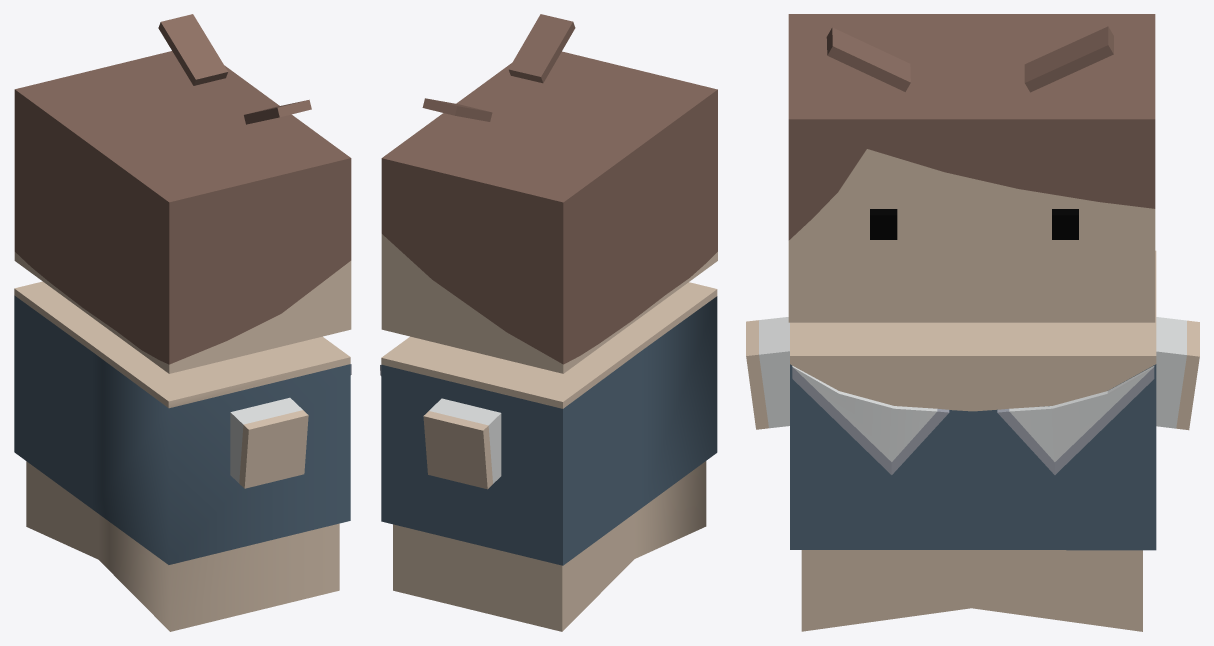
The model's file is RandomGuy.fbx.
3 renders of one model, left to right at view 1: azimuth 30°, elevation 25°; view 2: azimuth 150°, elevation 25°; view 3: azimuth 270°, elevation 25°, orthographic. The views are drawn at different scales.
Visible parts, largest first — view 1: Head, polySurface72, L_Leg1, L_Arm, R_leg1, R_Eyebrow, L_Eyebrow; view 2: Head, polySurface72, R_leg1, R_Arm, L_Leg1, L_Eyebrow, R_Eyebrow; view 3: Head, polySurface72, L_Leg1, R_leg1, polySurface64, polySurface63, L_Arm, R_Arm, R_Eyebrow, L_Eyebrow, polySurface65, polySurface66.
Part boxes in pixels (x1=…): Head: x1=14, y1=51, x2=351, y2=373; polySurface72: x1=14, y1=281, x2=350, y2=564; L_Leg1: x1=98, y1=514, x2=339, y2=631; L_Arm: x1=230, y1=397, x2=308, y2=488; R_leg1: x1=26, y1=461, x2=98, y2=559; R_Eyebrow: x1=158, y1=14, x2=227, y2=85; L_Eyebrow: x1=244, y1=99, x2=311, y2=124; Head: x1=381, y1=51, x2=717, y2=373; polySurface72: x1=381, y1=282, x2=717, y2=565; R_leg1: x1=393, y1=514, x2=634, y2=631; R_Arm: x1=423, y1=398, x2=501, y2=489; L_Leg1: x1=634, y1=461, x2=706, y2=558; L_Eyebrow: x1=508, y1=14, x2=575, y2=83; R_Eyebrow: x1=422, y1=98, x2=492, y2=121; Head: x1=788, y1=14, x2=1155, y2=322; polySurface72: x1=790, y1=250, x2=1156, y2=550; L_Leg1: x1=801, y1=550, x2=972, y2=631; R_leg1: x1=972, y1=550, x2=1142, y2=631; polySurface64: x1=792, y1=366, x2=949, y2=474; polySurface63: x1=997, y1=366, x2=1154, y2=474; L_Arm: x1=746, y1=317, x2=789, y2=429; R_Arm: x1=1156, y1=317, x2=1199, y2=430; R_Eyebrow: x1=1024, y1=26, x2=1113, y2=92; L_Eyebrow: x1=826, y1=27, x2=910, y2=91; polySurface65: x1=870, y1=209, x2=897, y2=239; polySurface66: x1=1052, y1=209, x2=1078, y2=239.
Size of the model in its own units: 0.7201 by 1.74 by 1.24.
